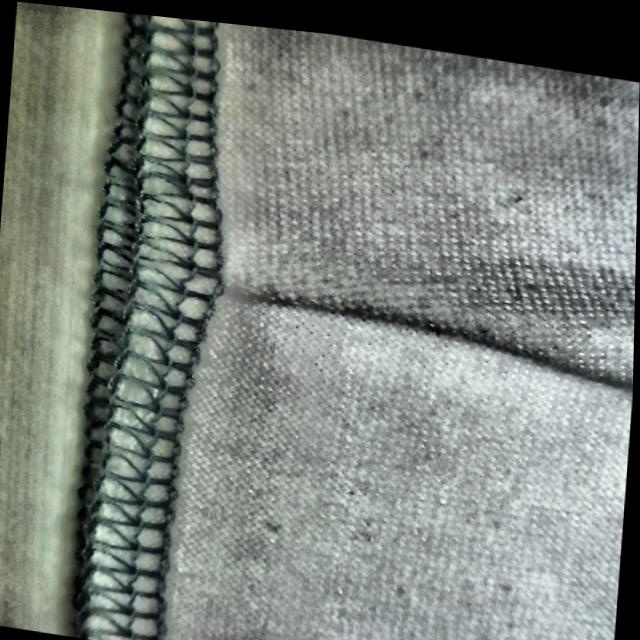seam: (124, 194, 469, 382)
